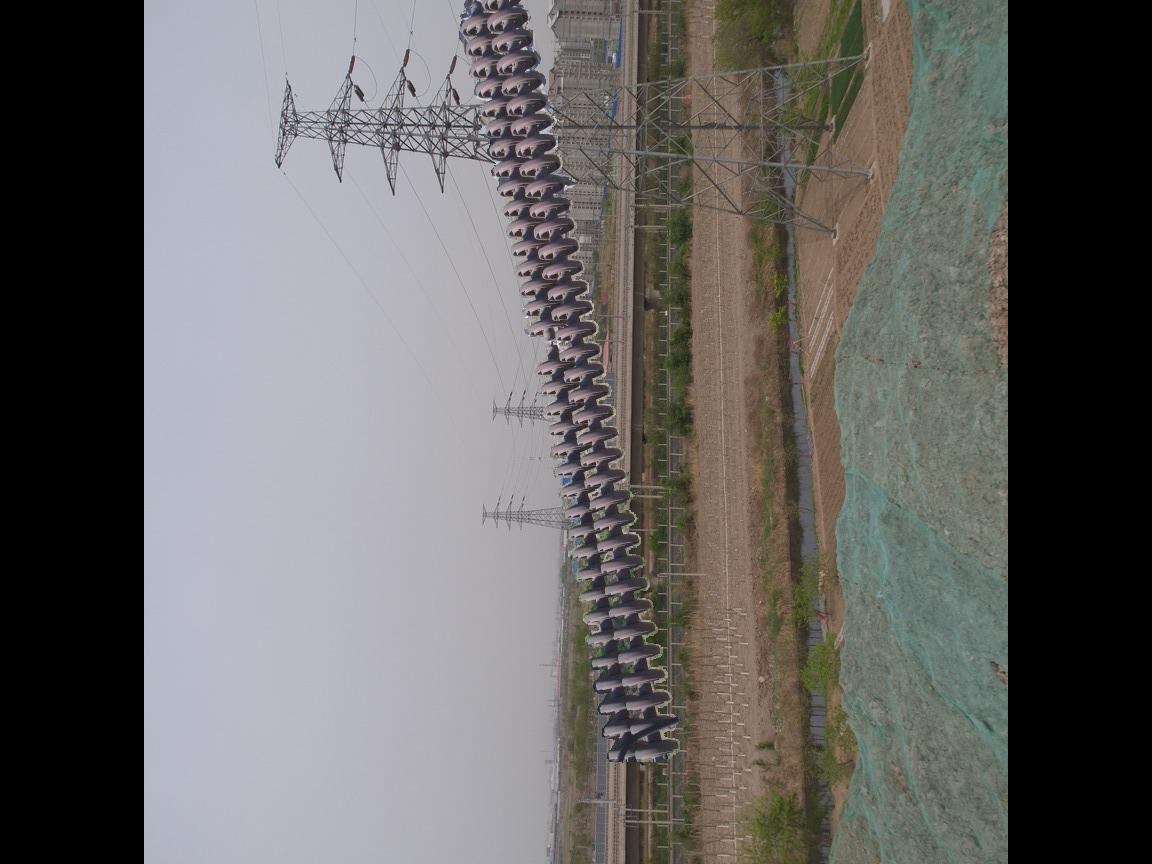insulator: (456, 1, 685, 773)
insulator_stringdrop: (524, 315, 569, 380)
